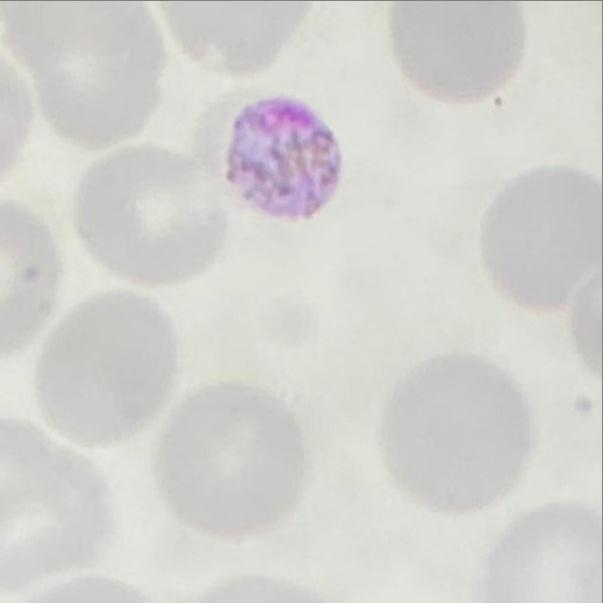Infected: (215, 87, 341, 218)
Uninfected: (153, 382, 308, 538), (382, 356, 528, 518), (32, 287, 177, 448), (0, 0, 159, 146), (73, 146, 224, 287), (0, 411, 107, 598), (482, 169, 602, 308), (388, 0, 532, 107)
